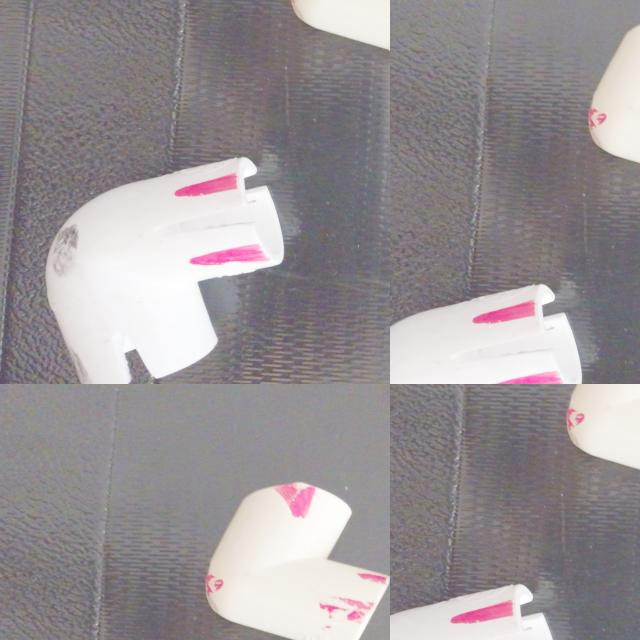Defective: (390, 229, 469, 317), (390, 257, 463, 306), (446, 194, 486, 247), (573, 303, 625, 323), (556, 408, 588, 430), (608, 54, 640, 73), (600, 35, 640, 50), (619, 87, 640, 115), (393, 161, 424, 177), (627, 91, 640, 107)
L Joint: (494, 293, 640, 384), (565, 384, 640, 473)
T Joint: (390, 150, 494, 320)
